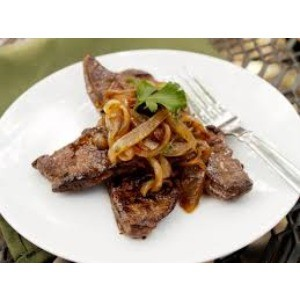liver_brain food: (88, 87, 204, 211)
